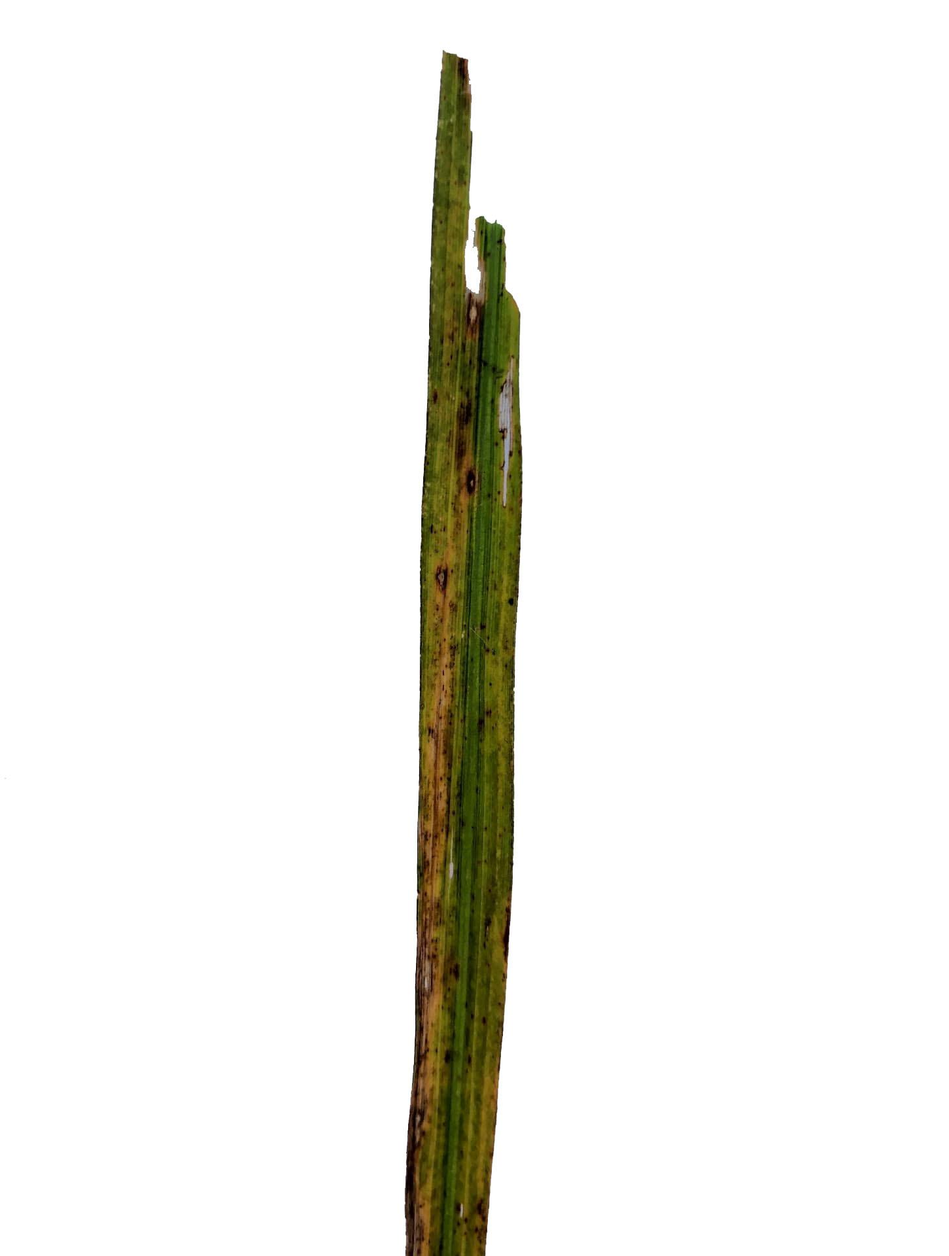Blight: (496, 347, 516, 515)
Leaf Smut: (440, 928, 509, 1256), (466, 560, 509, 938), (415, 607, 467, 874)
Rice blast: (402, 1064, 431, 1256), (415, 881, 440, 1071), (433, 563, 449, 601), (464, 292, 478, 335), (464, 466, 477, 500)
Tungro: (404, 55, 525, 1256)
